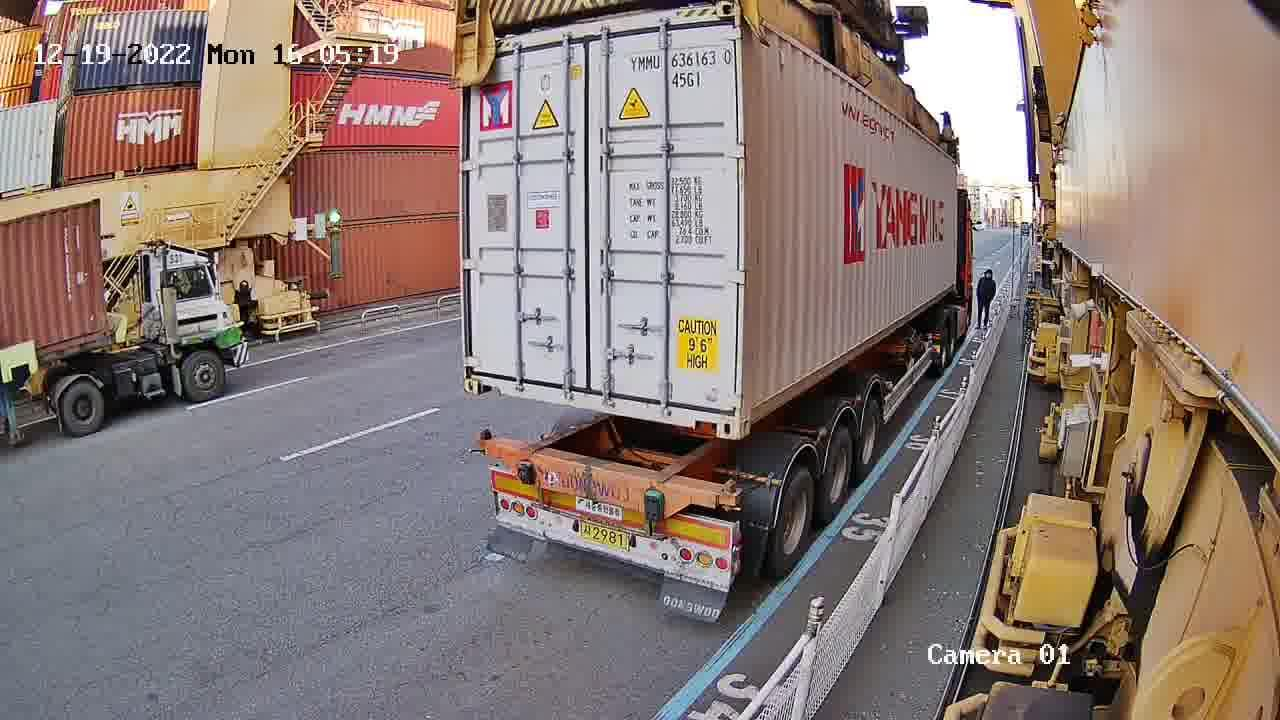Chassis: (480, 439, 730, 516)
Cone: (718, 475, 743, 514), (475, 427, 492, 455)
Hole_L: (740, 373, 768, 440), (462, 356, 500, 397)
Hole_R: (688, 380, 742, 442)
Tire: (775, 472, 813, 573), (822, 431, 855, 518), (860, 403, 882, 471)
